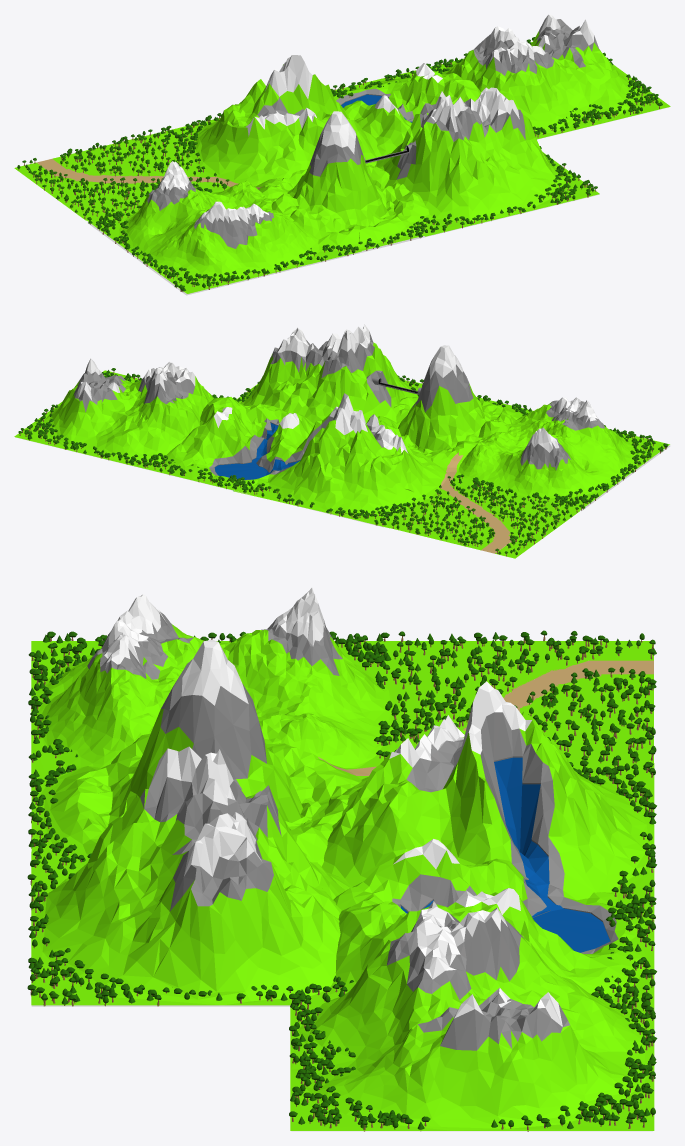
Rendered from Matte_Painting_Background.fbx.
3 renders of one model, top to bottom at view 1: azimuth 30°, elevation 25°; view 2: azimuth 150°, elevation 25°; view 3: azimuth 270°, elevation 25°, orthographic. The views are drawn at different scales.
Visible parts, largest first — view 1: Landscape.004, Landscape.008, Landscape, Landscape.005, Landscape.006, Plane, Landscape.002, Plane.001, Plane.002; view 2: Landscape.006, Landscape.008, Landscape, Landscape.004, Landscape.002, Landscape.005, Plane, Plane.001, Plane.002; view 3: Landscape, Landscape.004, Landscape.006, Landscape.008, Landscape.005, Landscape.002, Plane, Plane.001, Plane.002.
Part boxes in pixels (x1=…): Landscape.004: x1=374, y1=87, x2=599, y2=236; Landscape.008: x1=86, y1=161, x2=361, y2=293; Landscape: x1=430, y1=14, x2=670, y2=138; Landscape.005: x1=211, y1=111, x2=474, y2=265; Landscape.006: x1=160, y1=55, x2=381, y2=187; Plane: x1=14, y1=133, x2=228, y2=220; Landscape.002: x1=333, y1=63, x2=547, y2=155; Plane.001: x1=36, y1=159, x2=222, y2=183; Plane.002: x1=87, y1=107, x2=669, y2=295; Landscape.006: x1=233, y1=393, x2=448, y2=528; Landscape.008: x1=458, y1=397, x2=669, y2=510; Landscape: x1=14, y1=358, x2=213, y2=469; Landscape.004: x1=236, y1=324, x2=418, y2=428; Landscape.002: x1=126, y1=397, x2=314, y2=502; Landscape.005: x1=377, y1=345, x2=533, y2=484; Plane: x1=386, y1=480, x2=579, y2=558; Plane.001: x1=440, y1=484, x2=511, y2=553; Plane.002: x1=15, y1=437, x2=670, y2=527; Landscape: x1=290, y1=901, x2=654, y2=1130; Landscape.004: x1=31, y1=746, x2=352, y2=1005; Landscape.006: x1=311, y1=681, x2=654, y2=911; Landscape.008: x1=31, y1=588, x2=395, y2=790; Landscape.005: x1=31, y1=639, x2=395, y2=893; Landscape.002: x1=290, y1=839, x2=654, y2=1022; Plane: x1=395, y1=641, x2=653, y2=767; Plane.001: x1=463, y1=660, x2=653, y2=730; Plane.002: x1=31, y1=1005, x2=652, y2=1131.
Size of the model in its own units: 1384 by 2559 by 449.
